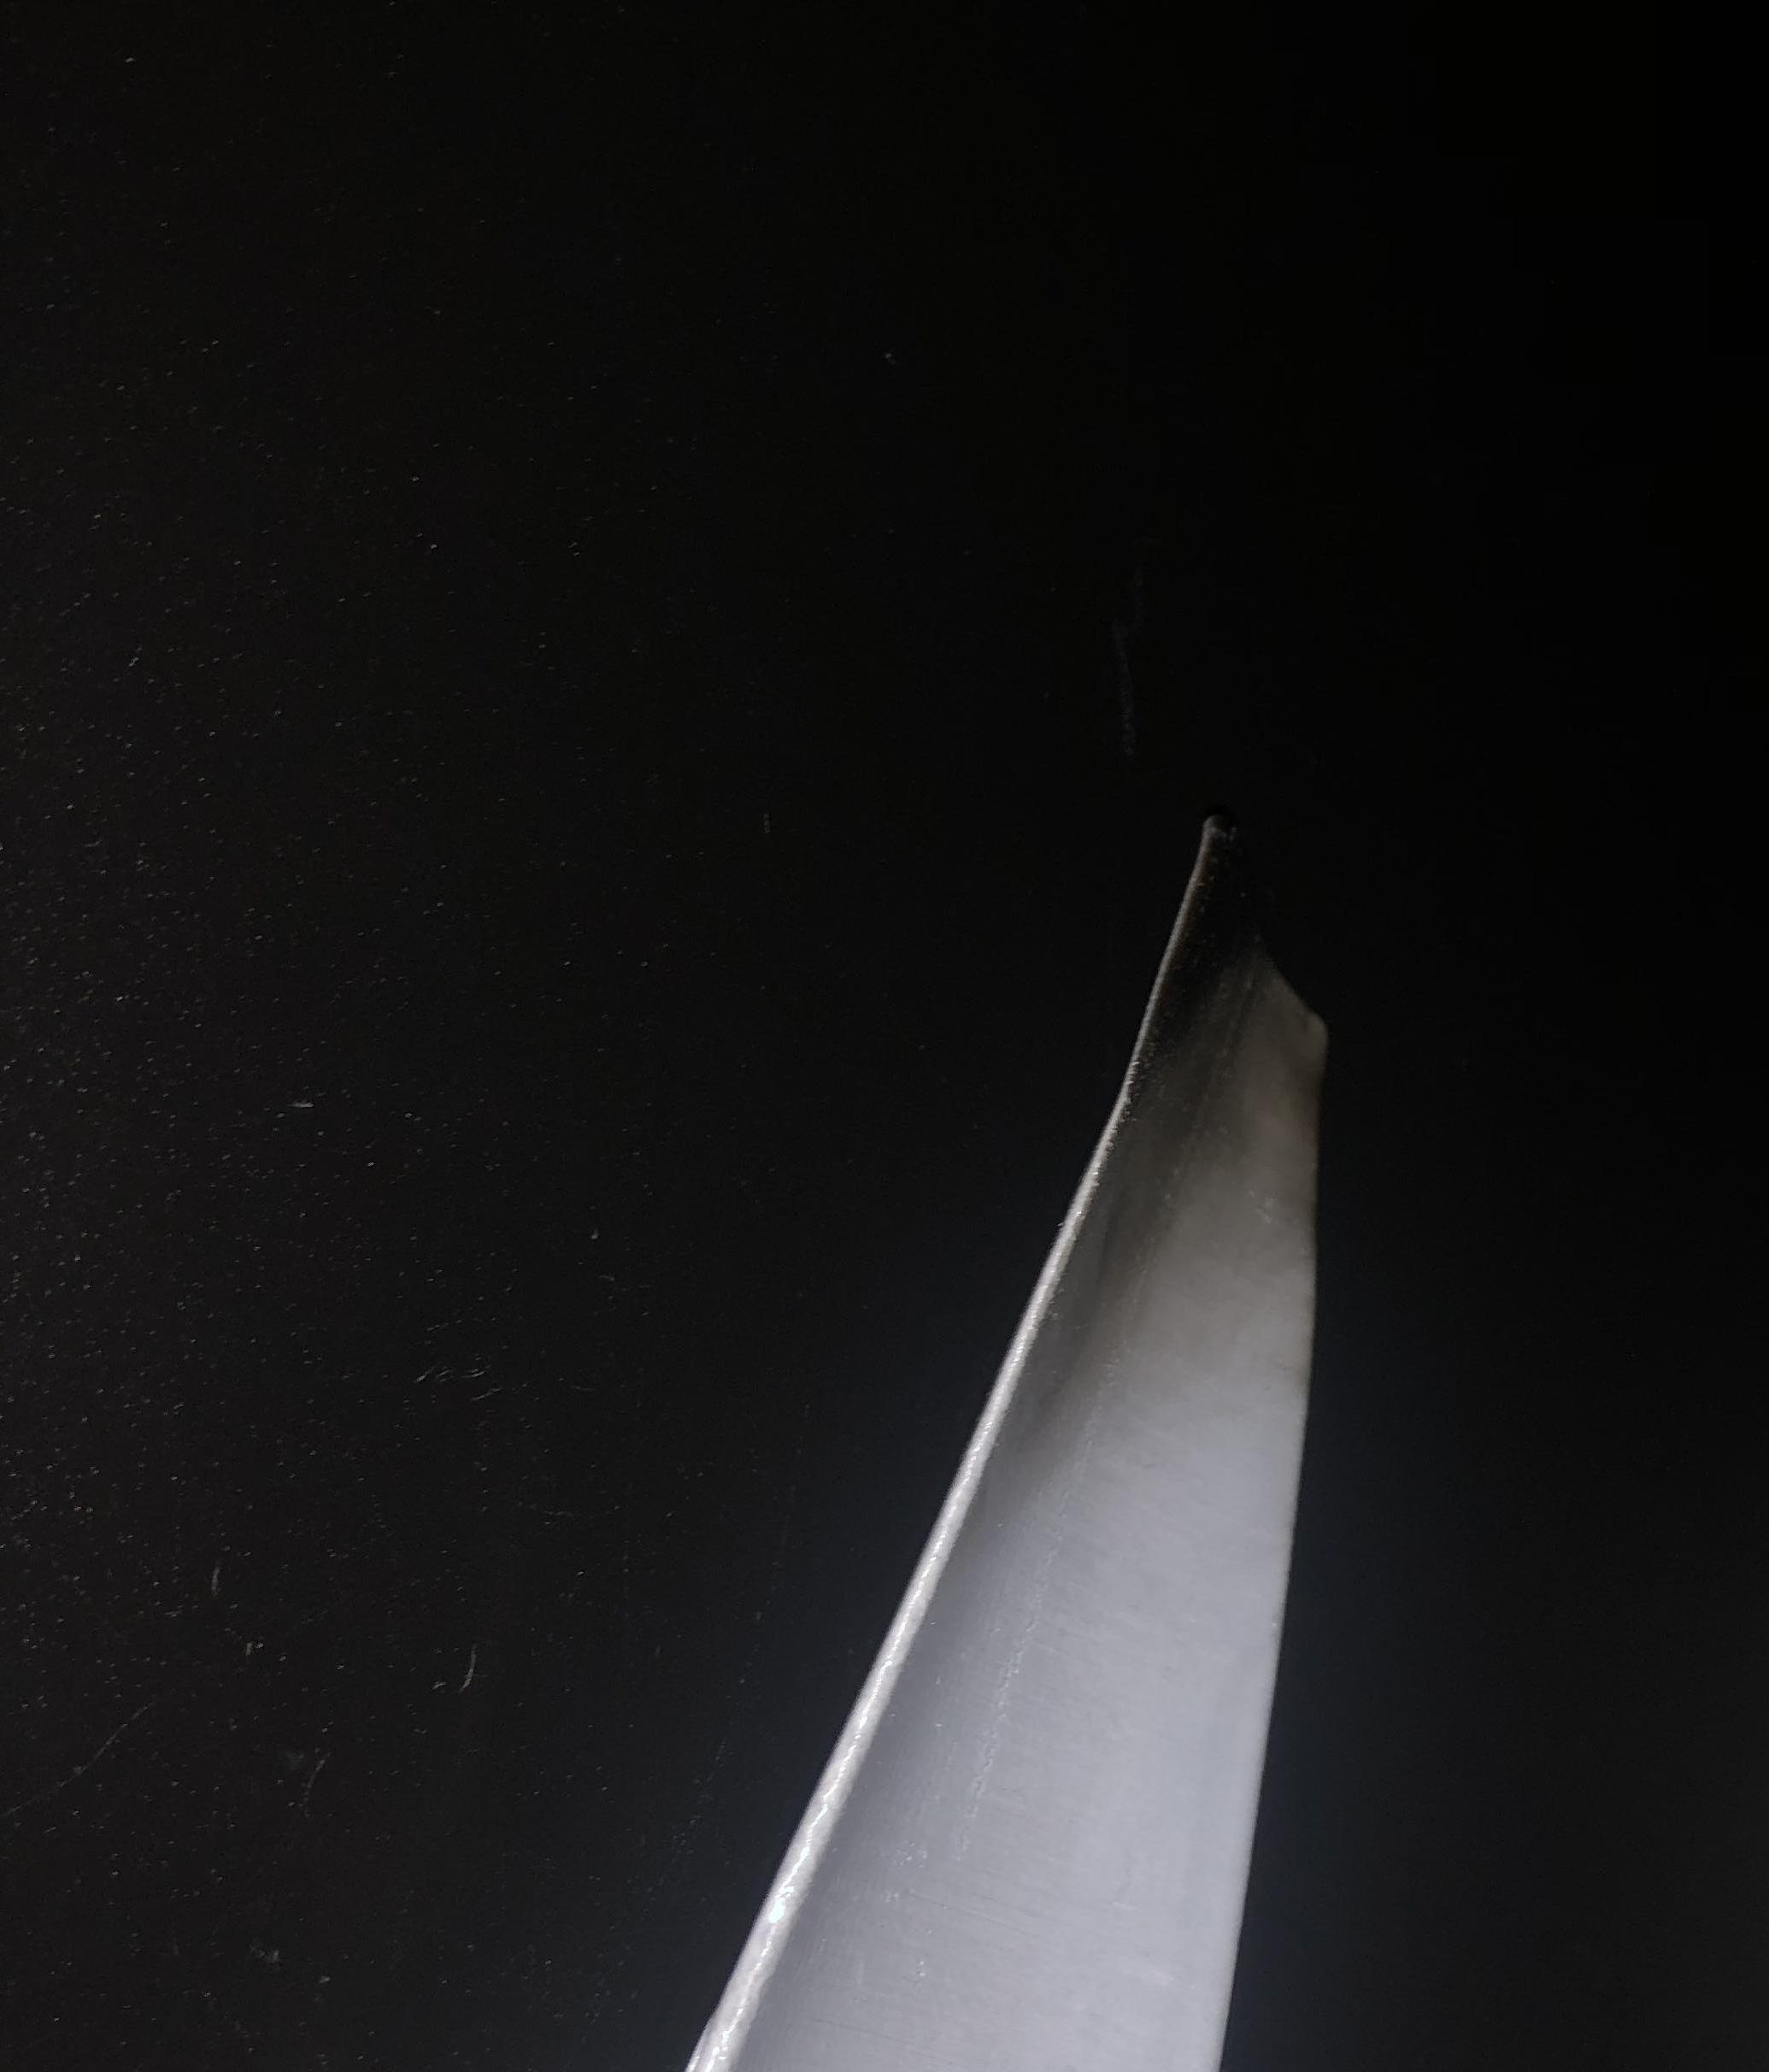ablation: (1146, 866, 1300, 1263)
